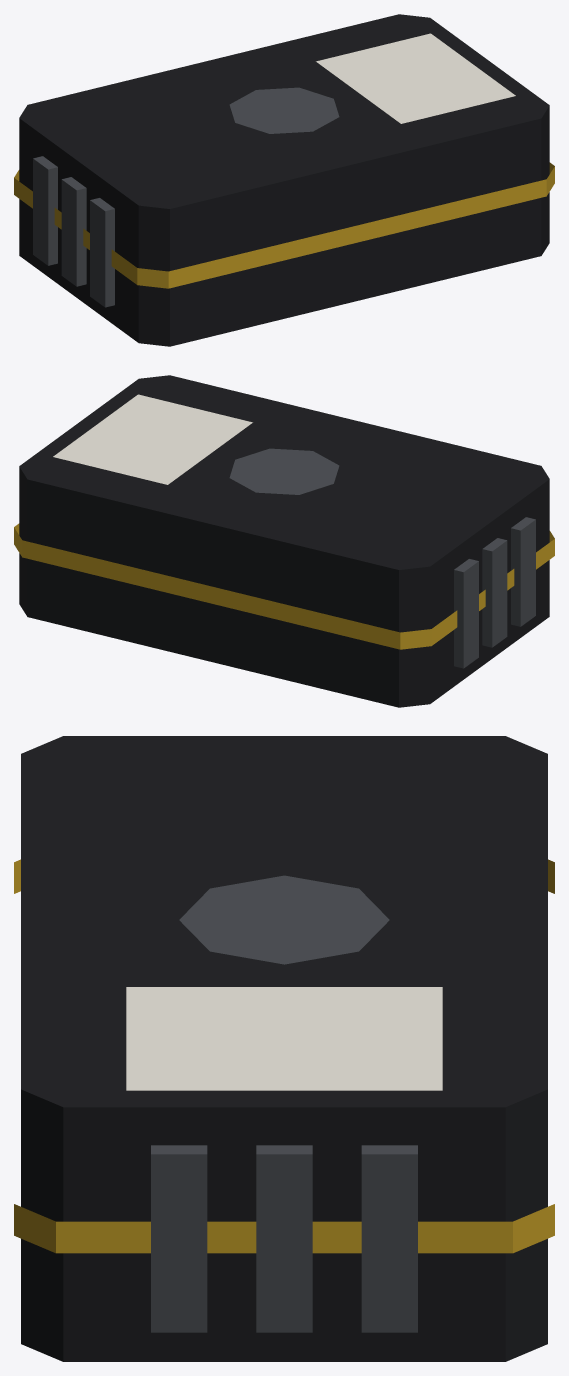
File: cartridge.glb
The picture shows the model from 3 angles, top to bottom: view 1: azimuth 30°, elevation 25°; view 2: azimuth 150°, elevation 25°; view 3: azimuth 270°, elevation 25°; orthographic projection. The views are drawn at different scales.
Parts seen in each view (by area): view 1: cartridge; view 2: cartridge; view 3: cartridge.
Boxes of the visible parts, x1,y1,x2,y2 form: cartridge: [14, 14, 554, 346]; cartridge: [14, 375, 554, 707]; cartridge: [14, 736, 554, 1361].
Size of what is drawn, in the model's own units: 0.262 by 0.0805 by 0.154.
